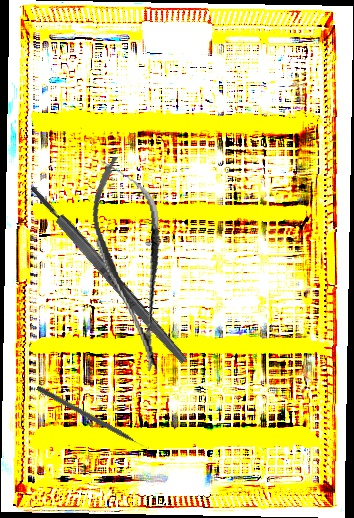Micro Scissor: (82, 151, 183, 377)
Pusher: (35, 385, 152, 454)
Scalpel Handle: (27, 183, 190, 366)
